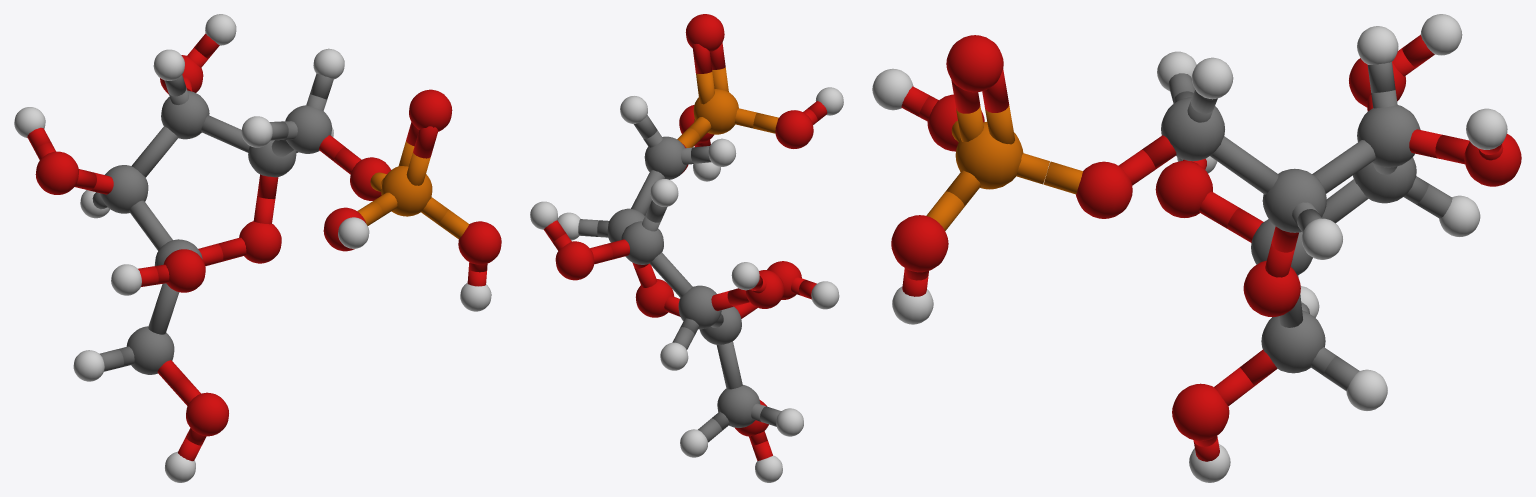
The model's file is fructose-6-phosphate.obj.
3 renders of one model, left to right at view 1: azimuth 30°, elevation 25°; view 2: azimuth 150°, elevation 25°; view 3: azimuth 270°, elevation 25°, orthographic. The views are drawn at different scales.
Visible parts, largest first — view 1: ShapeSphere_ShapeSphere.007, ShapeSphere.015_ShapeSphere.009, ShapeSphere.010_ShapeSphere.009, ShapeSphere.011_ShapeSphere.009, ShapeSphere.014_ShapeSphere.009, ShapeSphere.002_ShapeSphere.008, ShapeSphere.006_ShapeSphere.008, ShapeSphere.007_ShapeSphere.008, ShapeSphere.009_ShapeSphere.008, ShapeSphere.004_ShapeSphere.008, ShapeSphere.001_ShapeSphere.008, ShapeSphere.013_ShapeSphere.009 (+20 smaller); view 2: ShapeSphere_ShapeSphere.007, ShapeSphere.015_ShapeSphere.009, ShapeSphere.010_ShapeSphere.009, ShapeSphere.011_ShapeSphere.009, ShapeSphere.014_ShapeSphere.009, ShapeSphere.008, ShapeSphere.003_ShapeSphere.008, ShapeSphere.009_ShapeSphere.008, ShapeSphere.001_ShapeSphere.008, ShapeSphere.012_ShapeSphere.009, ShapeSphere.002_ShapeSphere.008, ShapeCylinder.011_ShapeCylinder.012 (+25 smaller); view 3: ShapeSphere_ShapeSphere.007, ShapeSphere.011_ShapeSphere.009, ShapeSphere.015_ShapeSphere.009, ShapeSphere.014_ShapeSphere.009, ShapeSphere.007_ShapeSphere.008, ShapeSphere.009_ShapeSphere.008, ShapeSphere.013_ShapeSphere.009, ShapeSphere.006_ShapeSphere.008, ShapeSphere.005_ShapeSphere.008, ShapeSphere.004_ShapeSphere.008, ShapeSphere.001_ShapeSphere.008, ShapeSphere.003_ShapeSphere.008 (+35 smaller).
Boxes of the visible parts, x1,y1,x2,y2 form: ShapeSphere_ShapeSphere.007: (381, 166, 432, 216); ShapeSphere.015_ShapeSphere.009: (126, 326, 174, 374); ShapeSphere.010_ShapeSphere.009: (100, 165, 148, 213); ShapeSphere.011_ShapeSphere.009: (161, 90, 209, 139); ShapeSphere.014_ShapeSphere.009: (285, 105, 331, 153); ShapeSphere.002_ShapeSphere.008: (35, 151, 78, 194); ShapeSphere.006_ShapeSphere.008: (186, 392, 228, 436); ShapeSphere.007_ShapeSphere.008: (458, 221, 501, 264); ShapeSphere.009_ShapeSphere.008: (409, 89, 452, 131); ShapeSphere.004_ShapeSphere.008: (163, 249, 205, 292); ShapeSphere.001_ShapeSphere.008: (239, 221, 281, 263); ShapeSphere.013_ShapeSphere.009: (248, 140, 296, 177); ShapeSphere_ShapeSphere.007: (693, 89, 738, 134); ShapeSphere.015_ShapeSphere.009: (717, 385, 760, 427); ShapeSphere.010_ShapeSphere.009: (678, 285, 721, 329); ShapeSphere.011_ShapeSphere.009: (621, 221, 663, 264); ShapeSphere.014_ShapeSphere.009: (644, 136, 686, 179); ShapeSphere.008: (775, 110, 813, 148); ShapeSphere.003_ShapeSphere.008: (555, 241, 594, 280); ShapeSphere.009_ShapeSphere.008: (685, 14, 724, 52); ShapeSphere.001_ShapeSphere.008: (635, 279, 674, 317); ShapeSphere.012_ShapeSphere.009: (699, 306, 741, 344); ShapeSphere.002_ShapeSphere.008: (745, 270, 784, 308); ShapeCylinder.011_ShapeCylinder.012: (650, 252, 692, 297); ShapeSphere_ShapeSphere.007: (955, 122, 1023, 189); ShapeSphere.011_ShapeSphere.009: (1357, 105, 1420, 167); ShapeSphere.015_ShapeSphere.009: (1261, 310, 1325, 373); ShapeSphere.014_ShapeSphere.009: (1161, 97, 1224, 161); ShapeSphere.007_ShapeSphere.008: (891, 215, 948, 272); ShapeSphere.009_ShapeSphere.008: (946, 35, 1003, 92); ShapeSphere.013_ShapeSphere.009: (1262, 168, 1326, 232); ShapeSphere.006_ShapeSphere.008: (1172, 383, 1229, 440); ShapeSphere.005_ShapeSphere.008: (1076, 161, 1132, 218); ShapeSphere.004_ShapeSphere.008: (1155, 161, 1212, 217); ShapeSphere.001_ShapeSphere.008: (1243, 260, 1300, 317); ShapeSphere.003_ShapeSphere.008: (1464, 133, 1521, 186).
Size of the model in its own units: 5.28 by 7.34 by 7.91.
